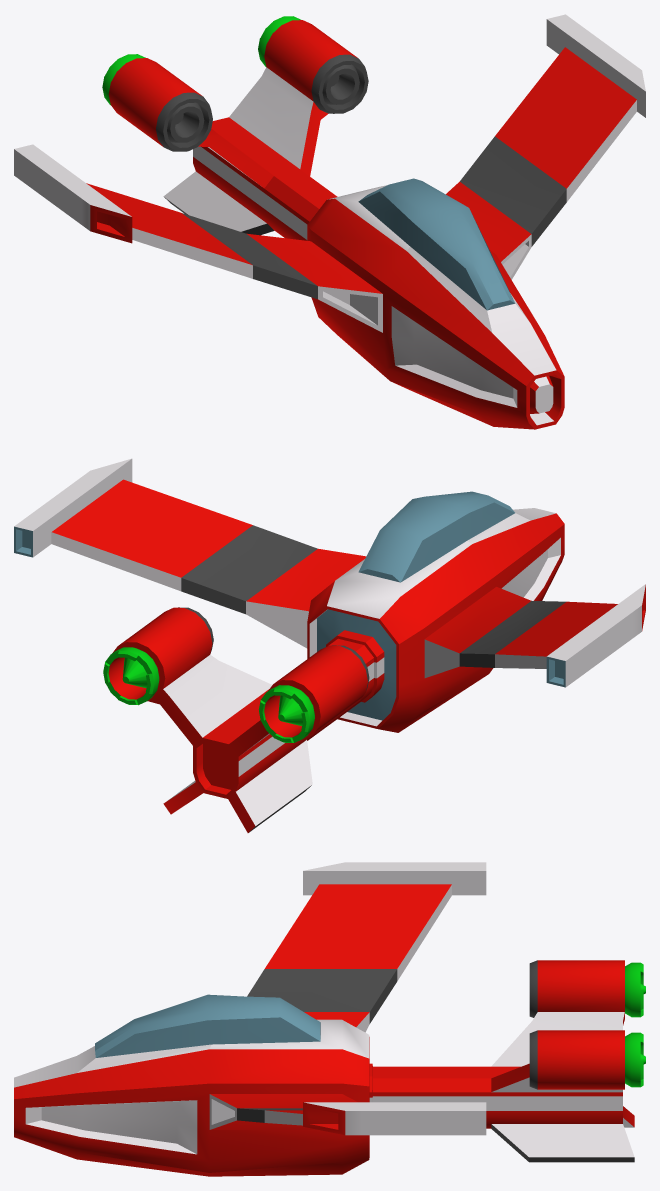
File: ORION A3.fbx
3 views of the same model, one above another, from view 1: azimuth 30°, elevation 25°; view 2: azimuth 150°, elevation 25°; view 3: azimuth 270°, elevation 25° (orthographic). The views are drawn at different scales.
Parts seen in each view (by area): view 1: SpaceShip; view 2: SpaceShip; view 3: SpaceShip.
Boxes of the visible parts, left/top/right/bottom form: SpaceShip: left=14, top=14, right=645, bottom=429; SpaceShip: left=14, top=458, right=645, bottom=832; SpaceShip: left=14, top=862, right=645, bottom=1176.
Bounding box in the file's own units: 49.53 × 16.38 × 53.23.
